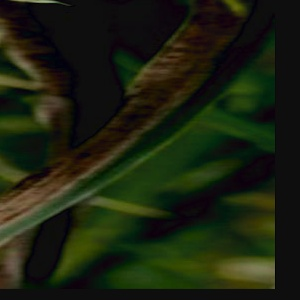Leaf_Blast: (139, 6, 254, 137)
